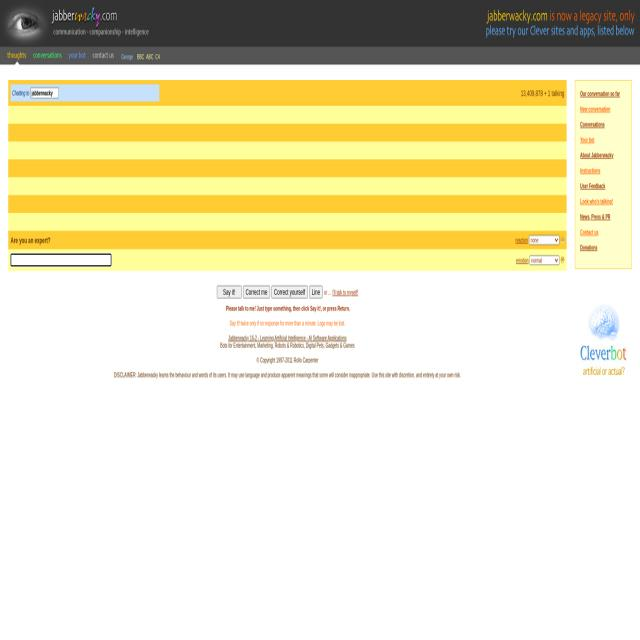button: (50, 0, 178, 47), (576, 293, 630, 390), (0, 0, 50, 46), (29, 47, 65, 65), (0, 47, 30, 65), (89, 47, 117, 65), (271, 286, 308, 298), (65, 47, 89, 65), (243, 286, 270, 298), (216, 286, 241, 298), (309, 285, 323, 298), (560, 235, 564, 245), (560, 255, 564, 265)
field: (10, 254, 111, 266), (30, 88, 59, 99), (529, 235, 559, 245), (530, 255, 560, 265)
